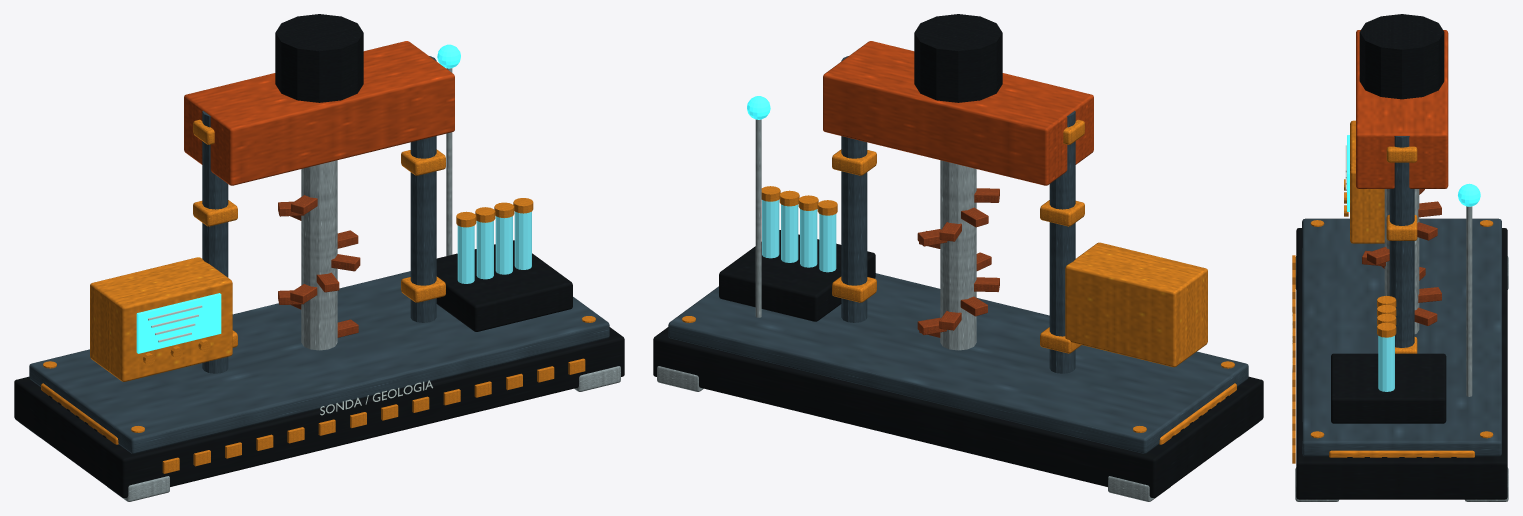
Rendered from sonda-geologica.glb.
3 views of the same model, side by side, from view 1: azimuth 30°, elevation 25°; view 2: azimuth 150°, elevation 25°; view 3: azimuth 270°, elevation 25° (orthographic). The views are drawn at different scales.
Visible parts, largest first — view 1: Deck aparafusado.001, Chassi reforçado.001, Cabeçote de perfuração.001, Parafuso de ancoragem.004, Sapata de nivelamento.004, Tubo de amostra.004, Tela de diagnóstico.001, Dente helicoidal.012, SONDA / GEOLOGIA.001; view 2: Deck aparafusado.001, Chassi reforçado.001, Cabeçote de perfuração.001, Parafuso de ancoragem.004, Sapata de nivelamento.004, Tubo de amostra.004, Dente helicoidal.012; view 3: Deck aparafusado.001, Chassi reforçado.001, Cabeçote de perfuração.001, Parafuso de ancoragem.004, Sapata de nivelamento.004, Dente helicoidal.012, Tubo de amostra.004, Tela de diagnóstico.001.
Boxes of the visible parts, x1=… form: Deck aparafusado.001: x1=29, y1=56, x2=609, y2=453; Chassi reforçado.001: x1=14, y1=14, x2=624, y2=497; Cabeçote de perfuração.001: x1=184, y1=41, x2=454, y2=185; Parafuso de ancoragem.004: x1=41, y1=119, x2=595, y2=473; Sapata de nivelamento.004: x1=19, y1=68, x2=620, y2=501; Tubo de amostra.004: x1=457, y1=211, x2=531, y2=283; Tela de diagnóstico.001: x1=136, y1=44, x2=460, y2=353; Dente helicoidal.012: x1=278, y1=195, x2=360, y2=337; SONDA / GEOLOGIA.001: x1=148, y1=305, x2=432, y2=415; Deck aparafusado.001: x1=668, y1=56, x2=1248, y2=453; Chassi reforçado.001: x1=653, y1=14, x2=1263, y2=497; Cabeçote de perfuração.001: x1=823, y1=41, x2=1093, y2=185; Parafuso de ancoragem.004: x1=682, y1=119, x2=1236, y2=444; Sapata de nivelamento.004: x1=657, y1=119, x2=1258, y2=501; Tubo de amostra.004: x1=762, y1=200, x2=836, y2=272; Dente helicoidal.012: x1=917, y1=188, x2=999, y2=337; Deck aparafusado.001: x1=1302, y1=136, x2=1501, y2=456; Chassi reforçado.001: x1=1296, y1=14, x2=1507, y2=499; Cabeçote de perfuração.001: x1=1356, y1=30, x2=1448, y2=188; Parafuso de ancoragem.004: x1=1292, y1=120, x2=1493, y2=463; Sapata de nivelamento.004: x1=1295, y1=189, x2=1508, y2=501; Dente helicoidal.012: x1=1362, y1=189, x2=1441, y2=325; Tubo de amostra.004: x1=1378, y1=336, x2=1394, y2=391; Tela de diagnóstico.001: x1=1347, y1=135, x2=1480, y2=211.
Size of the model in its own units: 2.9 by 2.04 by 1.13.
Materials: 9 (6 with a texture image).
